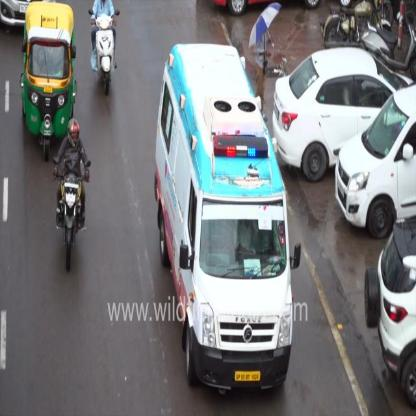auto-rikshaw: (20, 0, 76, 160)
bike: (52, 158, 90, 272), (88, 6, 119, 96)
car: (153, 40, 301, 396), (272, 45, 398, 184), (334, 82, 414, 240), (363, 214, 415, 408), (1, 1, 32, 33)
